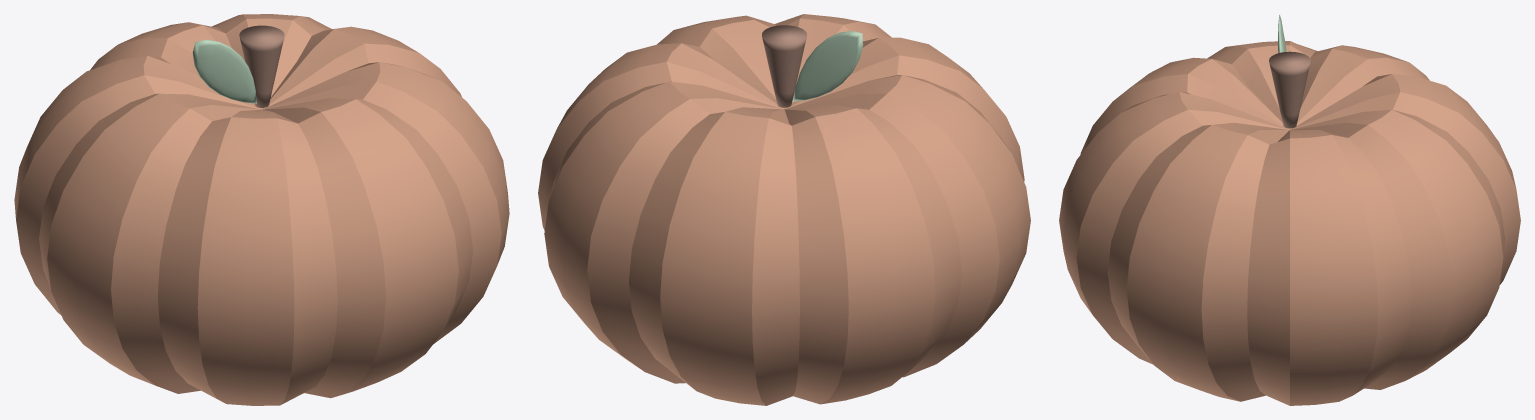
The model's file is pumpkin1.fbx.
3 renders of one model, left to right at view 1: azimuth 30°, elevation 25°; view 2: azimuth 150°, elevation 25°; view 3: azimuth 270°, elevation 25°, orthographic. The views are drawn at different scales.
Parts seen in each view (by area): view 1: Sphere; view 2: Sphere; view 3: Sphere.
Boxes of the visible parts, box(x1,y1,x2,y2) form: Sphere: box(14, 14, 509, 405); Sphere: box(538, 14, 1030, 405); Sphere: box(1059, 15, 1520, 405).
Bounding box in the file's own units: 193 × 144 × 193.
